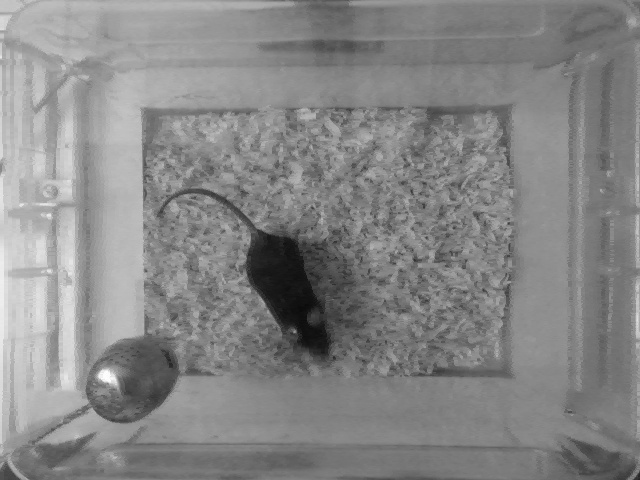mice: (177, 184, 335, 364)
